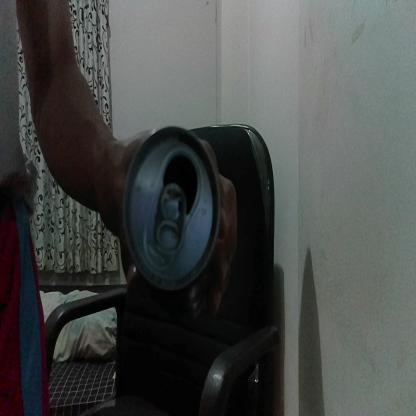alumunium_can: (126, 118, 219, 286)
